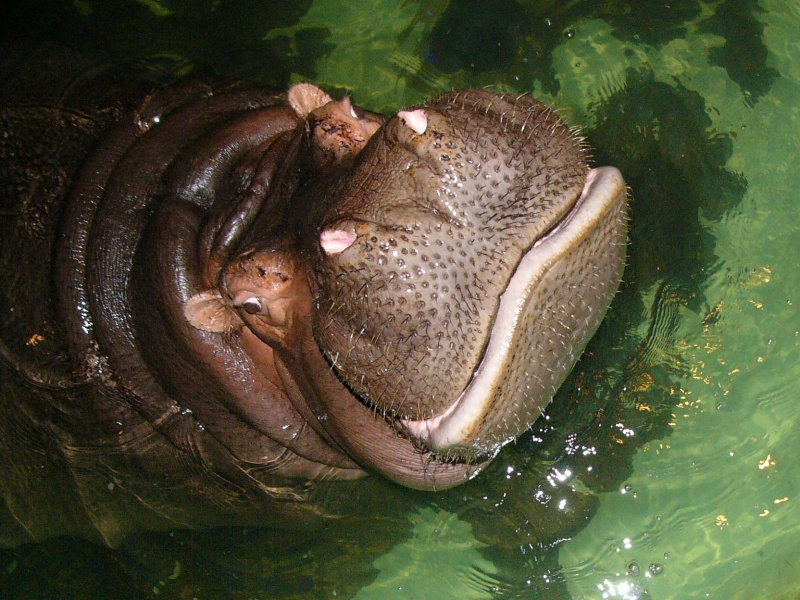hipopotamo: (6, 48, 675, 543)
